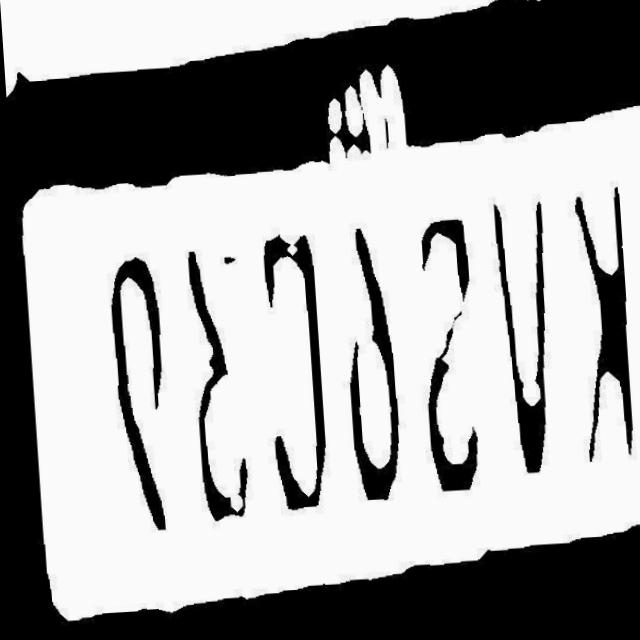3: (166, 230, 255, 566)
6: (337, 225, 415, 550)
9: (87, 220, 174, 567)
c: (251, 224, 350, 555)
k: (548, 196, 640, 522)
s: (402, 218, 495, 549)
v: (488, 213, 574, 529)
